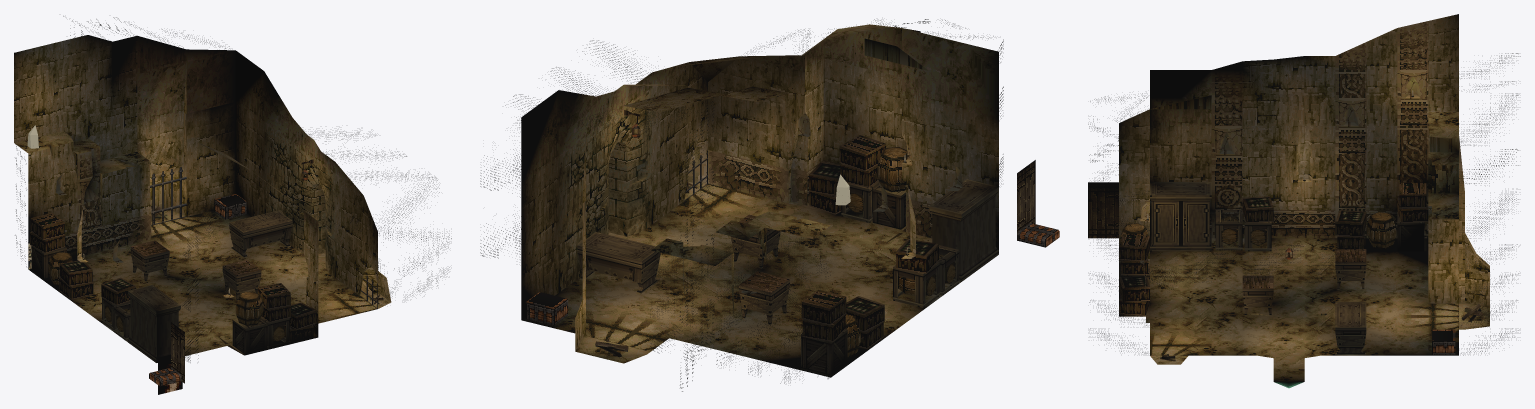
Rendered from MAP018.gltf.
The picture shows the model from 3 angles, left to right: view 1: azimuth 30°, elevation 25°; view 2: azimuth 150°, elevation 25°; view 3: azimuth 270°, elevation 25°; orthographic projection. The views are drawn at different scales.
Size of the model in its own units: 165 by 112 by 179.
Materials: 96 (96 with a texture image).
